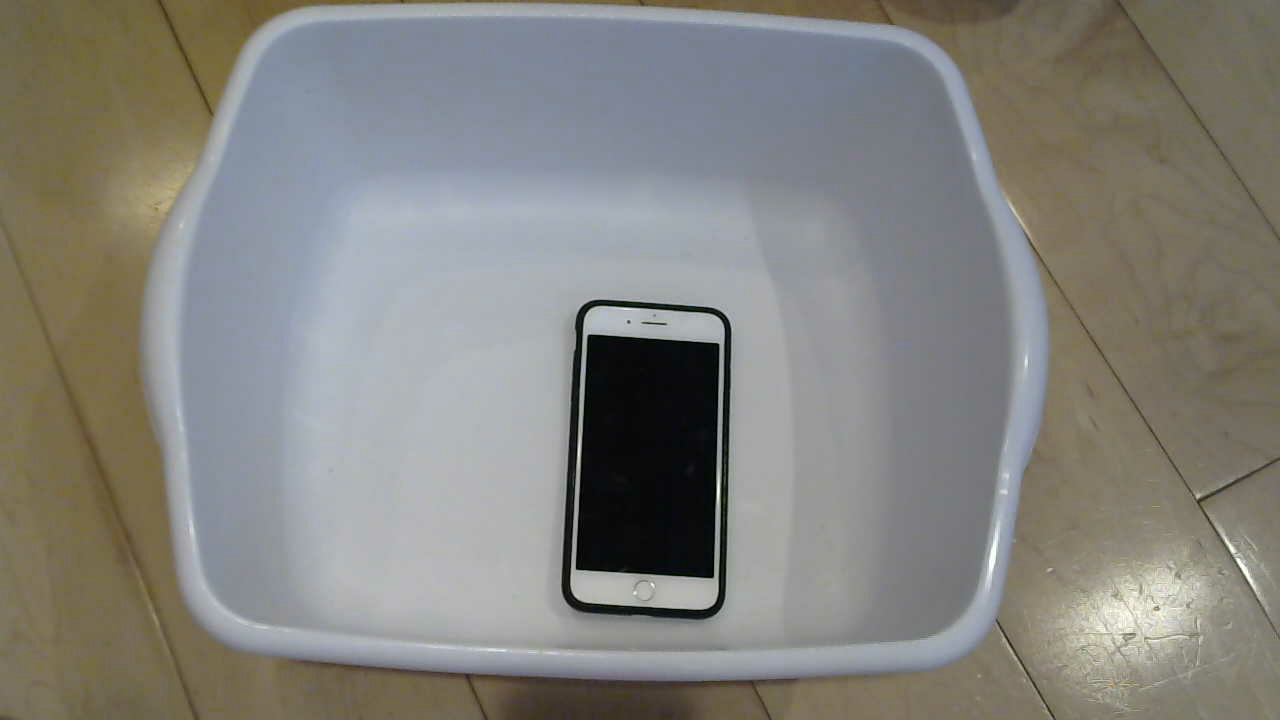phone: (570, 301, 755, 622)
